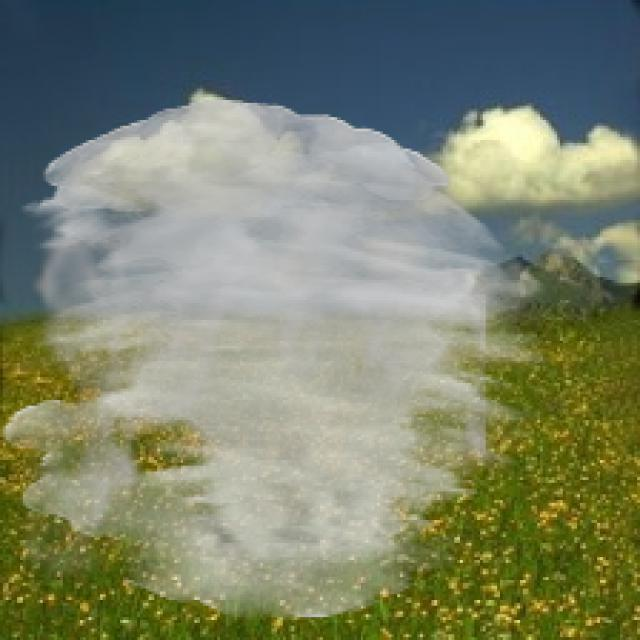smoke: (0, 100, 552, 621)
